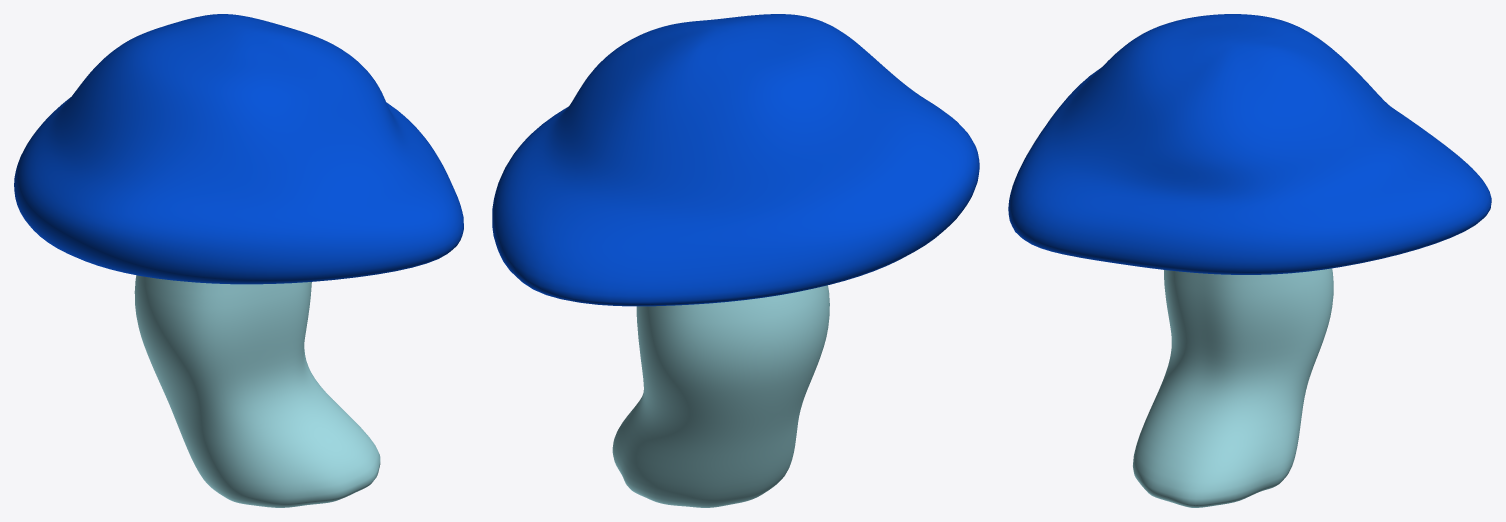
File: BlueShroom.fbx
3 renders of one model, left to right at view 1: azimuth 30°, elevation 25°; view 2: azimuth 150°, elevation 25°; view 3: azimuth 270°, elevation 25°, orthographic. The views are drawn at different scales.
Visible parts, largest first — view 1: pSphere1; view 2: pSphere1; view 3: pSphere1.
Boxes of the visible parts, x1,y1,x2,y2 form: pSphere1: (14, 14, 463, 507); pSphere1: (492, 14, 979, 507); pSphere1: (1008, 14, 1491, 507).
Bounding box in the file's own units: 331 × 372 × 387.
